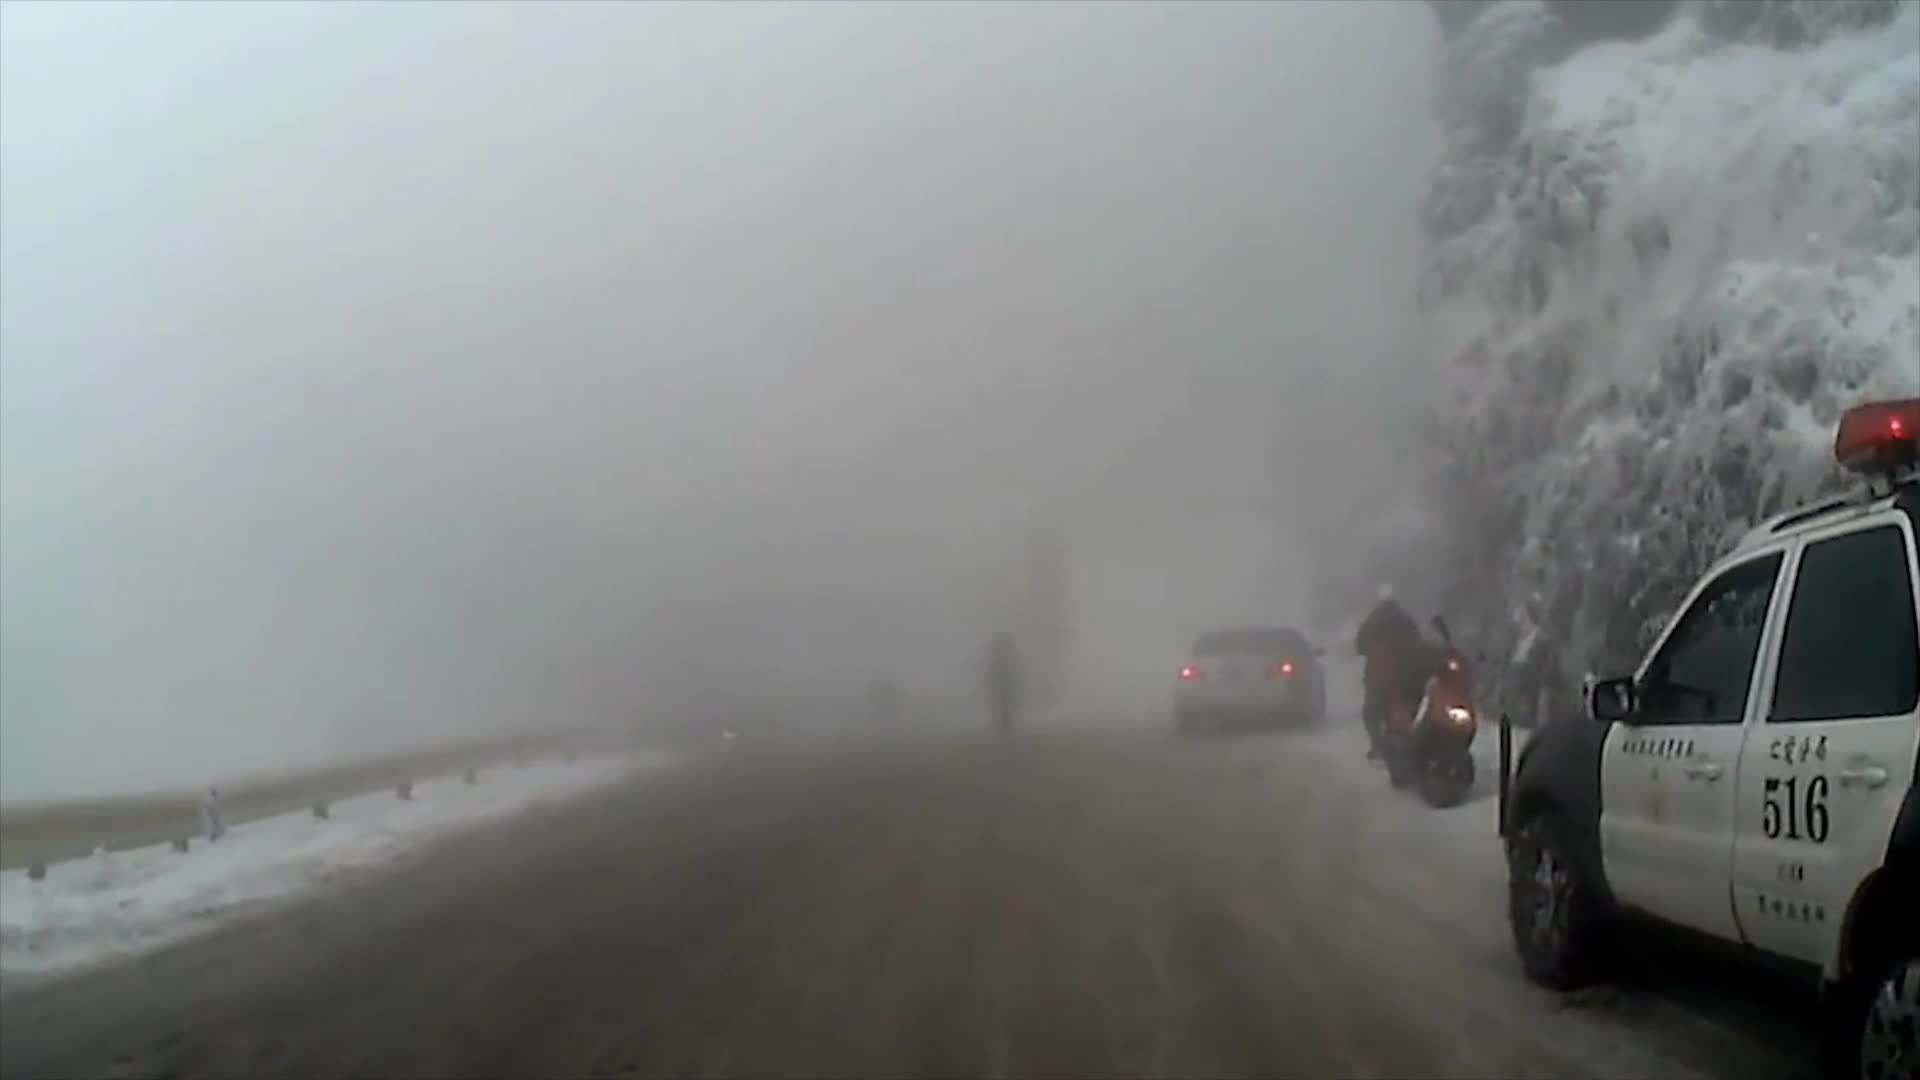pedestrian: (1346, 584, 1427, 762), (988, 630, 1022, 750)
vehicle: (1497, 395, 1915, 1080), (1173, 623, 1330, 741)
